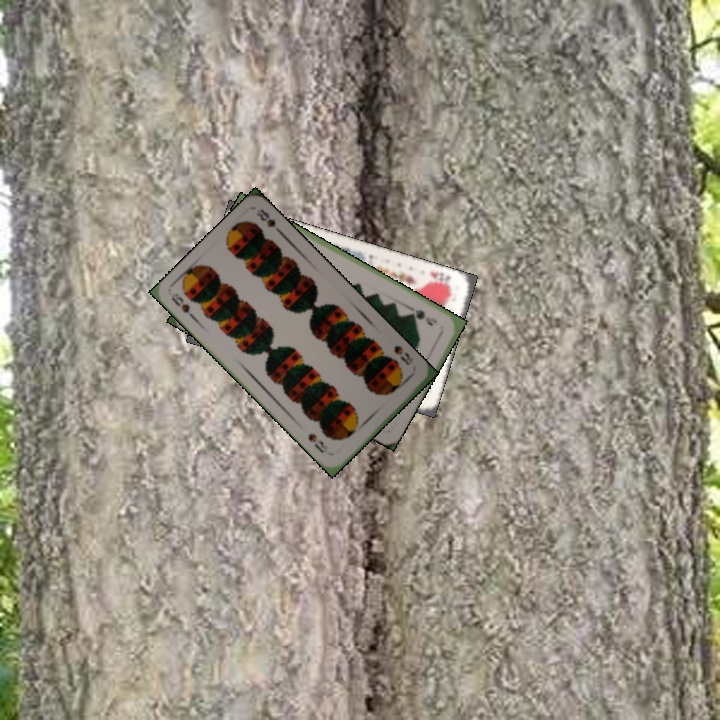G9: (408, 304, 440, 328)
HK: (426, 267, 454, 292)
S8: (167, 289, 199, 324), (390, 341, 416, 368)
